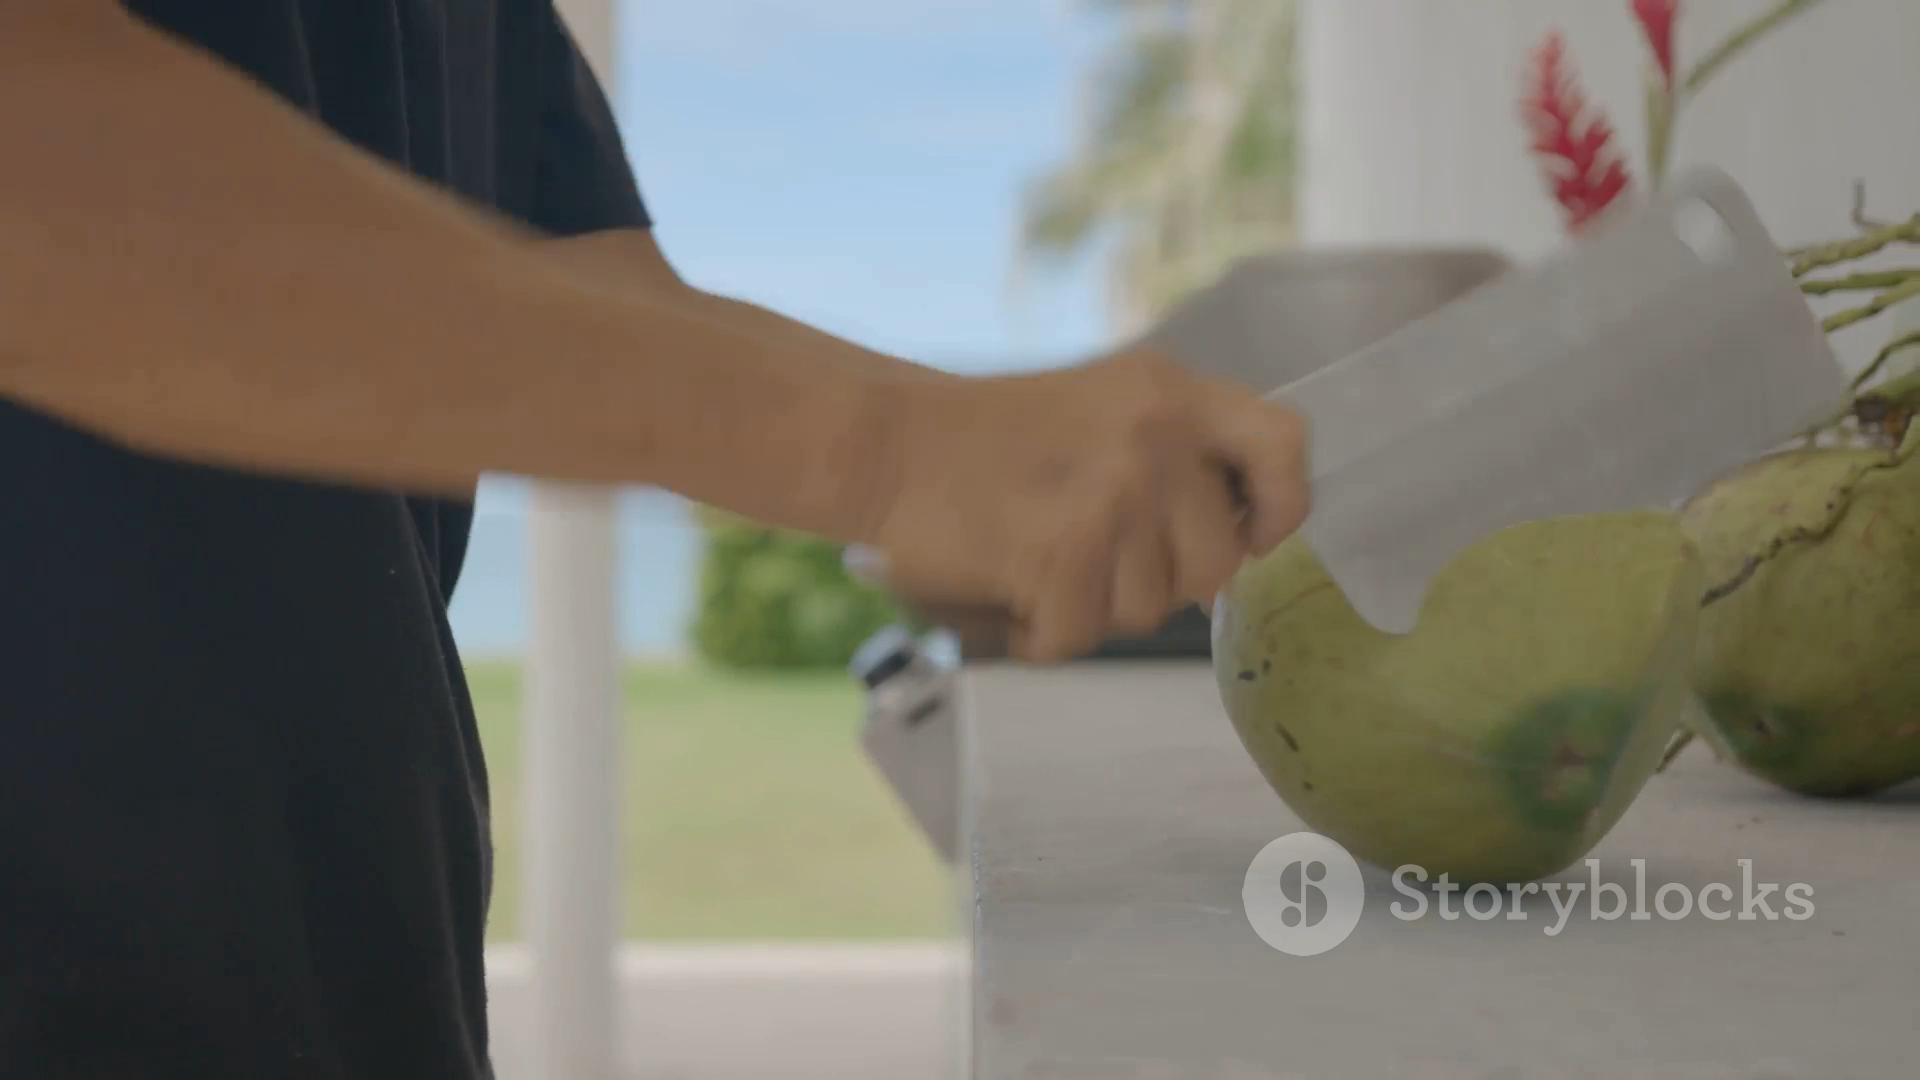cortante: (1273, 157, 1854, 632)
